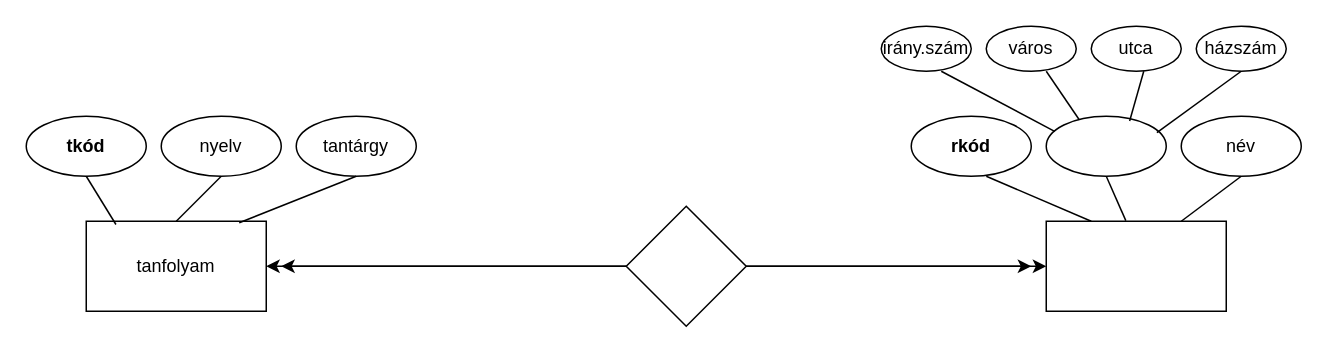
This 1328x353 diagram has some shape labels left out. Each missing label, with the centre of its shape:
"lakcím" belongs at pixel 1105 145.
"résztvevő" belongs at pixel 1135 265.
"T-R" belongs at pixel 685 265.
